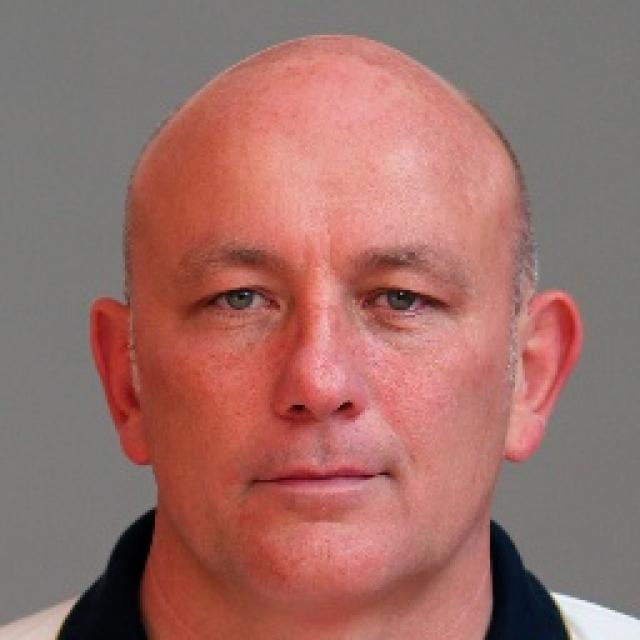earlobe: (500, 405, 551, 462), (111, 410, 153, 466)
eye: (196, 284, 280, 314), (357, 286, 441, 316)
nose: (272, 403, 366, 462)
wholeear: (501, 289, 582, 462), (91, 298, 153, 466)
